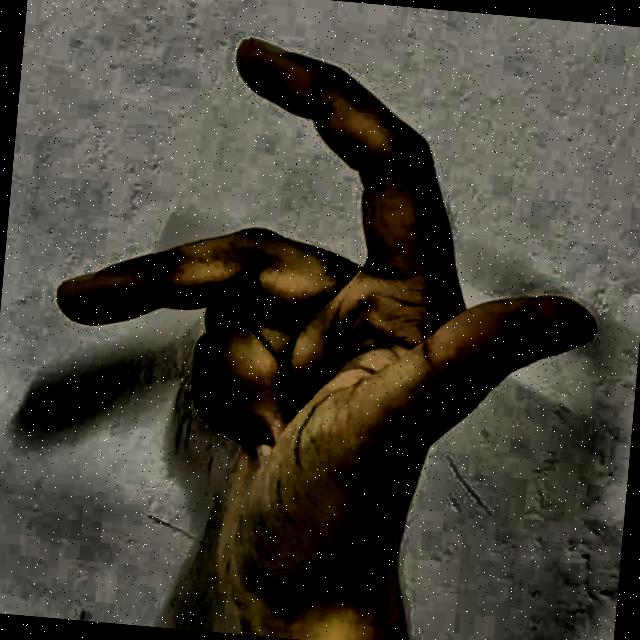Da: (17, 7, 638, 624)
